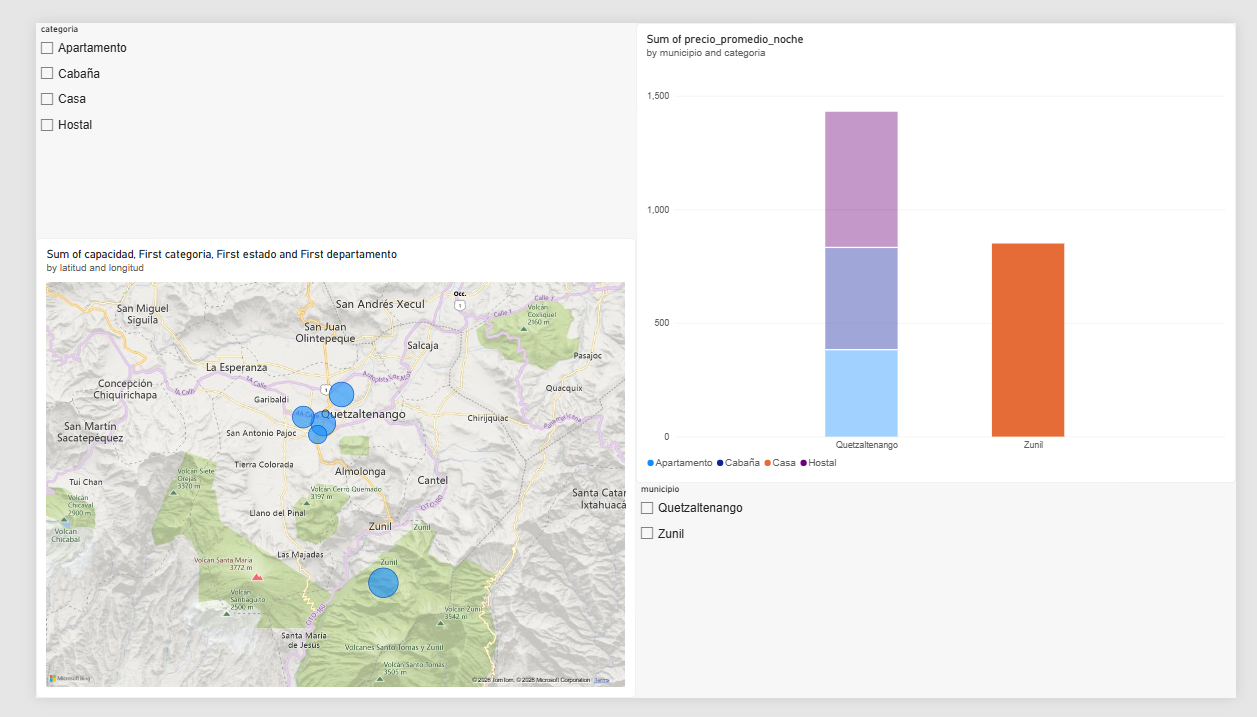

What the dashboard file says about the page in this screenshot:
{"tool":"powerbi","page":{"name":"Alojamientos","canvas":[1920,1080],"ordinal":2},"visuals":[{"type":"map","fields":{"Size":["Sum(bi dim_alojamientos.capacidad)"],"X":["bi dim_alojamientos.longitud"],"Y":["bi dim_alojamientos.latitud"]},"box":[0,344,960,736],"z":0},{"type":"slicer","fields":{"Values":["bi dim_alojamientos.categoria"]},"box":[0,0,960,418.3],"z":1},{"type":"slicer","fields":{"Values":["bi alojamientos_por_categoria_municipio.municipio"]},"box":[960,736,960,344],"z":2},{"type":"columnChart","fields":{"Category":["bi alojamientos_por_categoria_municipio.municipio"],"Series":["bi alojamientos_por_categoria_municipio.categoria"],"Y":["Sum(bi alojamientos_por_categoria_municipio.precio_promedio_noche)"]},"box":[960,0,960,736],"z":3}]}

Visuals, with their boxes in screenshot pixels (x1, y1, x2, y2), scaled from the page's 1920x1080 canvas onto the 1257x717 screenshot:
map - Sum(bi dim_alojamientos.capacidad) x bi dim_alojamientos.longitud: <region>0, 228, 628, 716</region>
slicer - bi dim_alojamientos.categoria: <region>0, 0, 628, 278</region>
slicer - bi alojamientos_por_categoria_municipio.municipio: <region>628, 489, 1256, 716</region>
columnChart - bi alojamientos_por_categoria_municipio.municipio x bi alojamientos_por_categoria_municipio.categoria: <region>628, 0, 1256, 489</region>
